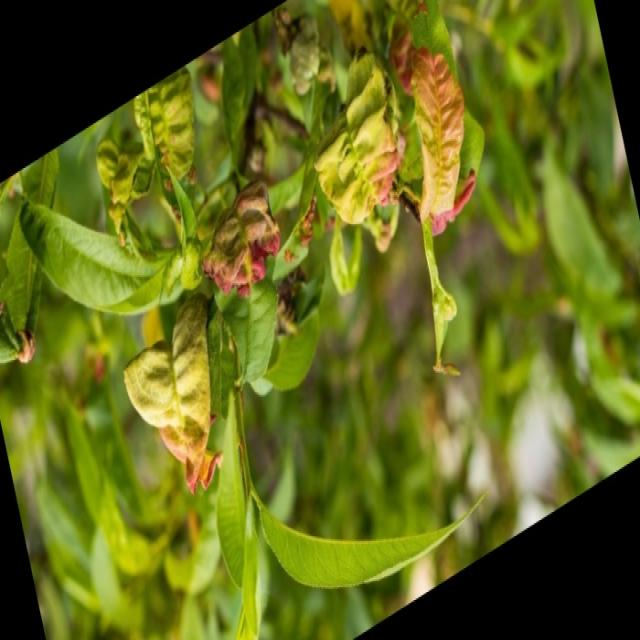Black_knot: (200, 176, 281, 301)
peach_leaf_curl: (123, 290, 221, 494), (409, 45, 465, 224)
